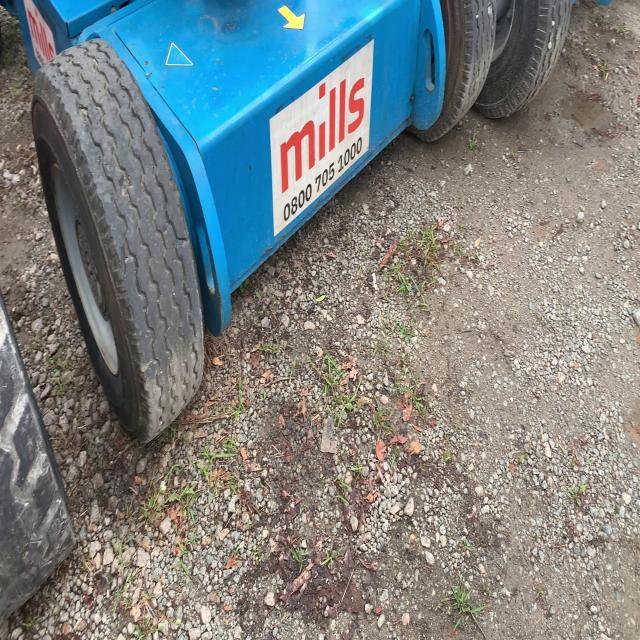Adesivos: (269, 37, 375, 242)
